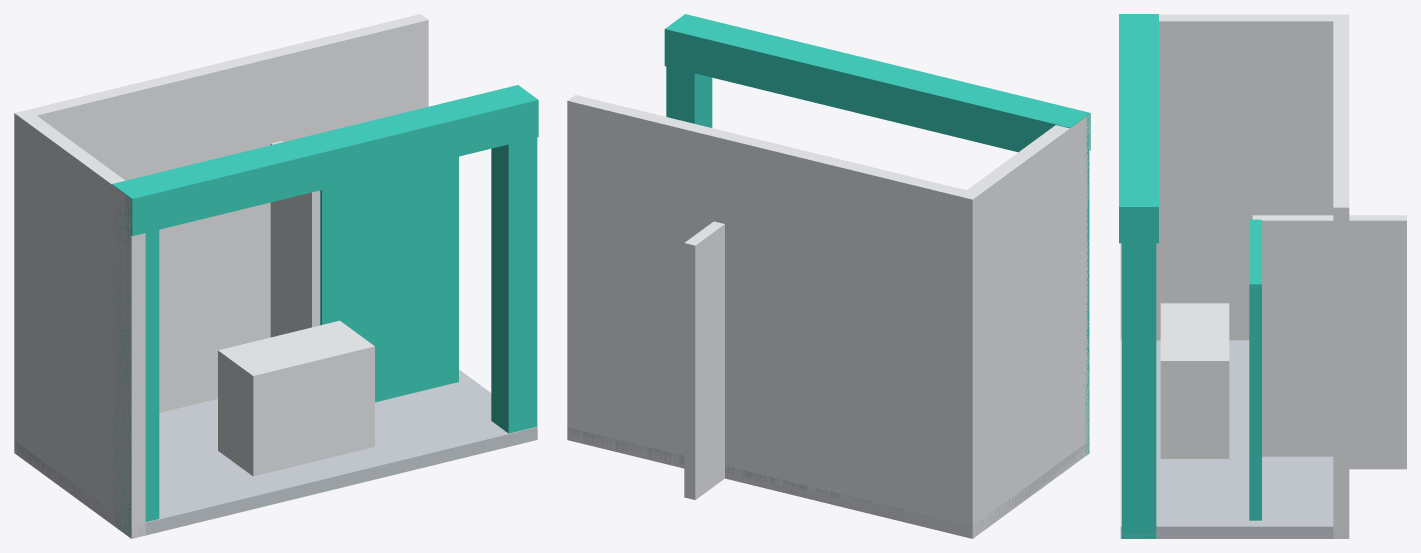
The picture shows the model from 3 angles, left to right: view 1: azimuth 30°, elevation 25°; view 2: azimuth 150°, elevation 25°; view 3: azimuth 270°, elevation 25°; orthographic projection. The views are drawn at different scales.
Visible parts, largest first — view 1: Exhibition Booth Concept; view 2: Exhibition Booth Concept; view 3: Exhibition Booth Concept.
Boxes of the visible parts, x1,y1,x2,y2 form: Exhibition Booth Concept: (14, 14, 538, 538); Exhibition Booth Concept: (567, 14, 1090, 538); Exhibition Booth Concept: (1119, 14, 1406, 538).
Size of the model in its own units: 4 by 3.2 by 2.52.
